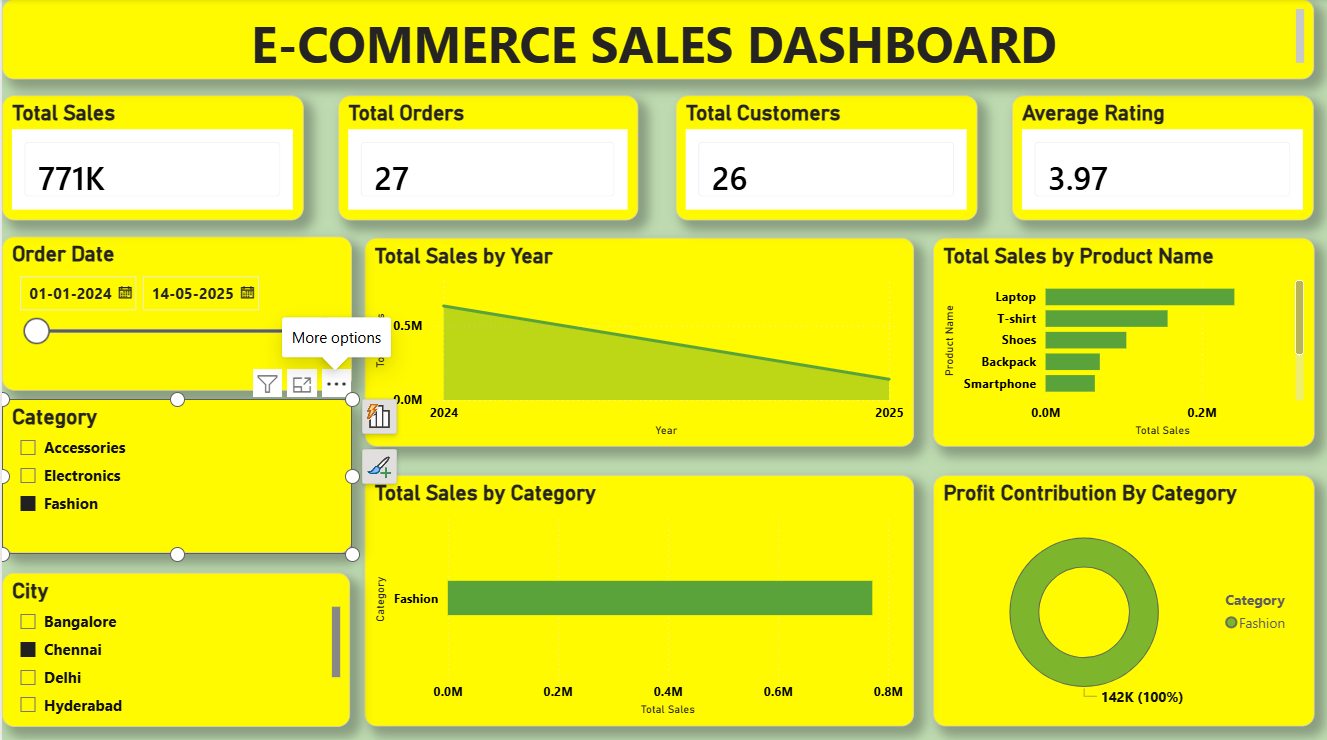

Layout of this report page (visuals, bound fields, positions):
{"tool":"powerbi","page":{"name":"Page 1","canvas":[1280,720],"ordinal":0},"visuals":[{"type":"areaChart","fields":{"Category":["ecommerce.Order Date.Variation.Date Hierarchy.Year","ecommerce.Order Date.Variation.Date Hierarchy.Quarter","ecommerce.Order Date.Variation.Date Hierarchy.Month","ecommerce.Order Date.Variation.Date Hierarchy.Day"],"Y":["ecommerce.Total Sales"]},"box":[349.7,229.9,530.7,201.8],"z":0},{"type":"donutChart","title":"Profit Contribution By Category","fields":{"Category":["ecommerce.Category"],"Y":["Sum(ecommerce.Profit)"]},"box":[898.8,459.8,368.1,242.1],"z":1000},{"type":"clusteredBarChart","fields":{"Category":["ecommerce.Category"],"Y":["ecommerce.Total Sales"]},"box":[349.7,459.8,530.7,242.1],"z":2000},{"type":"barChart","fields":{"Category":["ecommerce.Product Name"],"Y":["ecommerce.Total Sales"]},"box":[898.8,229.9,368.1,201.8],"z":3000},{"type":"slicer","title":"Order Date ","fields":{"Values":["ecommerce.Order Date"]},"box":[0,229.4,337.6,148.6],"z":4000},{"type":"slicer","title":"Category","fields":{"Values":["ecommerce.Category"]},"box":[0,386.7,337.6,148.6],"z":5000},{"type":"slicer","title":"City","fields":{"Values":["ecommerce.City"]},"box":[0,554,336.2,148.6],"z":6000},{"type":"cardVisual","title":"Total Sales","fields":{"Data":["ecommerce.Total Sales"]},"box":[0,92.3,291.4,121.2],"z":7000},{"type":"cardVisual","title":"Total Orders","fields":{"Data":["ecommerce.Total Orders"]},"box":[324.6,92.3,290,121.2],"z":8000},{"type":"cardVisual","title":"Average Rating","fields":{"Data":["ecommerce.Avg Rating"]},"box":[975.3,92.3,291.4,121.2],"z":9000},{"type":"cardVisual","title":"Total Customers","fields":{"Data":["ecommerce.Total Customers"]},"box":[650.7,92.3,291.4,121.2],"z":10000},{"type":"textbox","box":[0,0,1266.7,77.3],"z":11000}]}

Visuals, with their boxes in screenshot pixels (x1, y1, x2, y2), scaled from the page's 1280x720 canvas onto the 1327x740 screenshot:
areaChart - ecommerce.Order Date.Variation.Date Hierarchy.Year x ecommerce.Order Date.Variation.Date Hierarchy.Quarter: left=363, top=236, right=913, bottom=444
"Profit Contribution By Category" donutChart: left=932, top=473, right=1313, bottom=721
clusteredBarChart - ecommerce.Category x ecommerce.Total Sales: left=363, top=473, right=913, bottom=721
barChart - ecommerce.Product Name x ecommerce.Total Sales: left=932, top=236, right=1313, bottom=444
"Order Date " slicer: left=0, top=236, right=350, bottom=388
"Category" slicer: left=0, top=397, right=350, bottom=550
"City" slicer: left=0, top=569, right=349, bottom=722
"Total Sales" cardVisual: left=0, top=95, right=302, bottom=219
"Total Orders" cardVisual: left=337, top=95, right=637, bottom=219
"Average Rating" cardVisual: left=1011, top=95, right=1313, bottom=219
"Total Customers" cardVisual: left=675, top=95, right=977, bottom=219
textbox: left=0, top=0, right=1313, bottom=79
